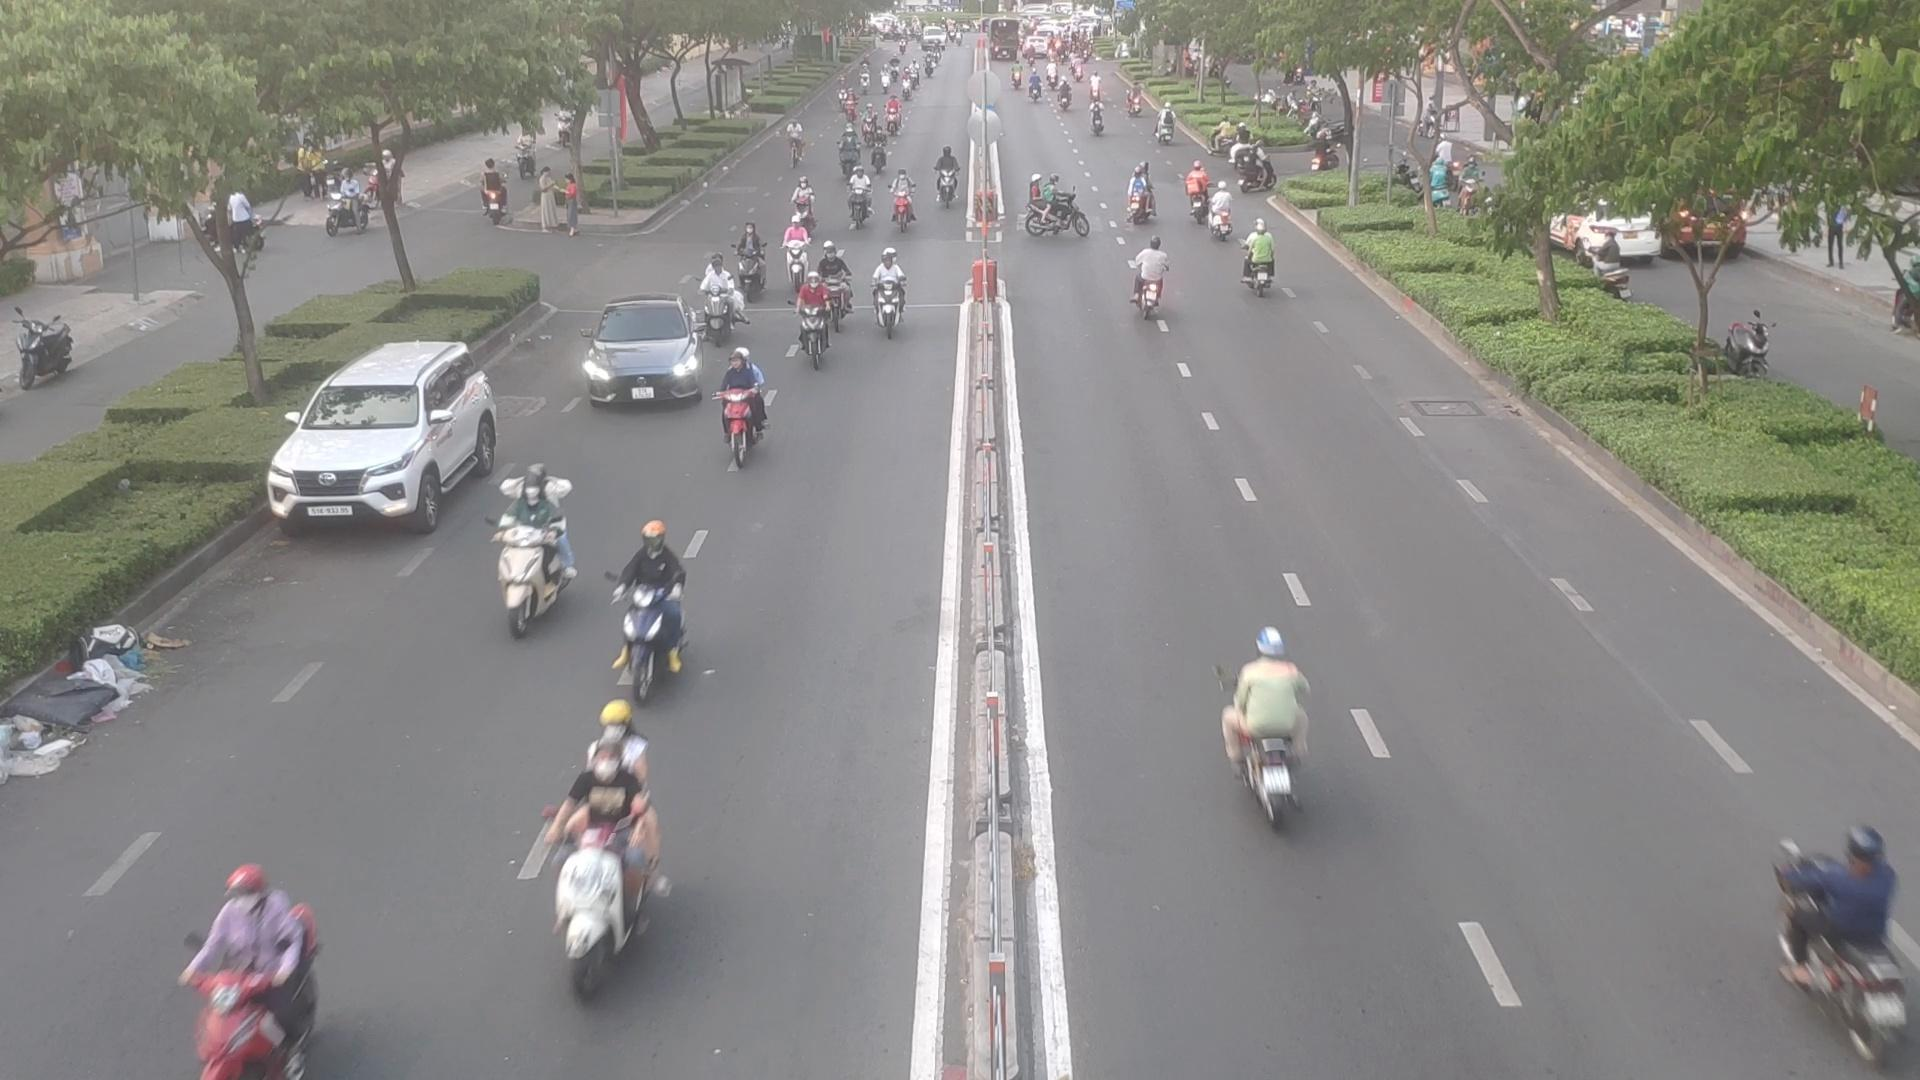car: (272, 344, 514, 535), (578, 297, 709, 406)
motorbike: (1782, 815, 1920, 1065), (164, 858, 316, 1076), (527, 754, 663, 993), (1217, 636, 1327, 819), (477, 465, 574, 636), (605, 531, 695, 687), (495, 462, 585, 570), (712, 353, 775, 462), (1022, 175, 1095, 245), (694, 261, 750, 342), (1127, 245, 1179, 323), (864, 258, 910, 340), (1237, 225, 1288, 295), (818, 244, 855, 320), (731, 229, 767, 293), (926, 146, 961, 210), (884, 174, 916, 236), (1127, 170, 1163, 224), (785, 222, 818, 278), (1207, 179, 1236, 241), (793, 175, 824, 225), (1185, 160, 1209, 224), (848, 166, 870, 225), (839, 127, 861, 178), (872, 127, 886, 175)
